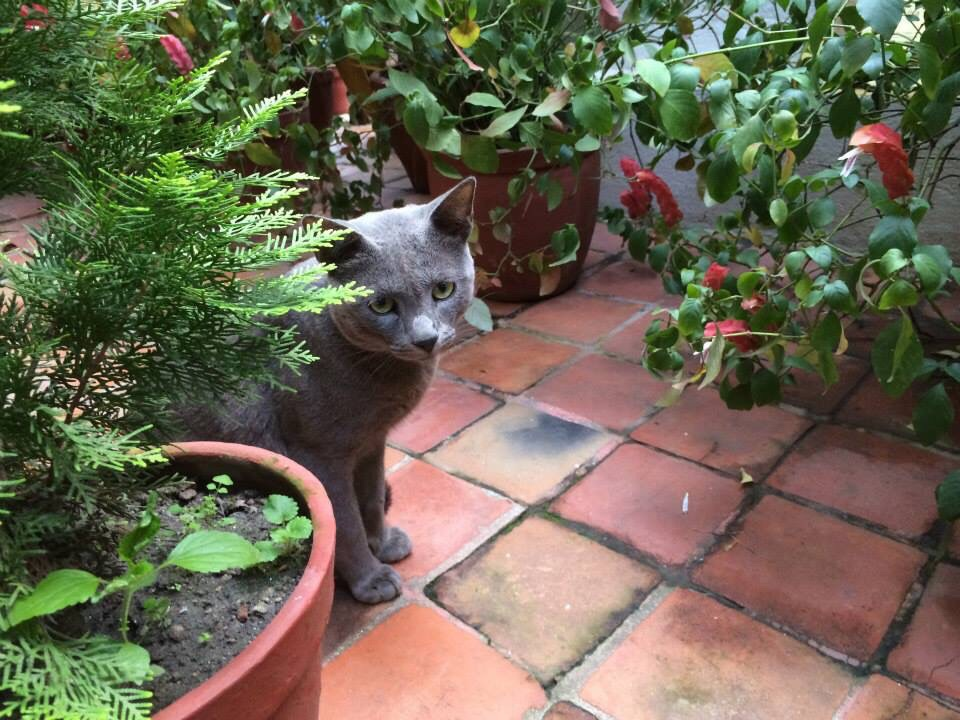cat: (123, 167, 488, 617)
